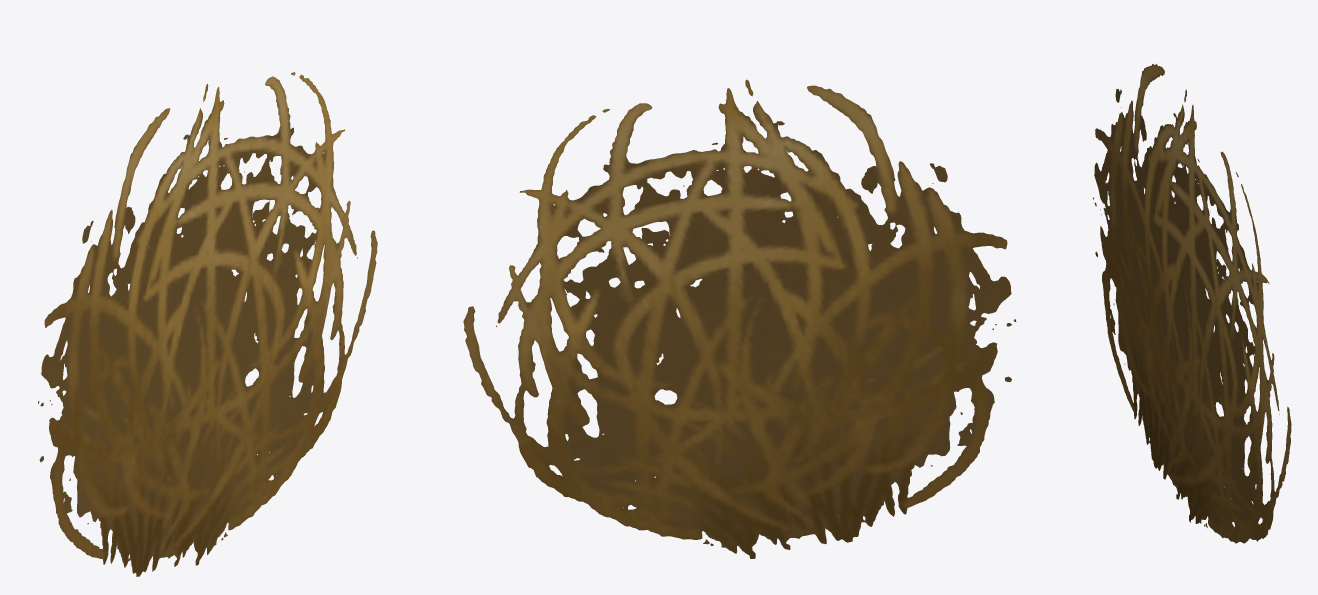
Rendered from tumble1_002.fbx.
The picture shows the model from 3 angles, left to right: view 1: azimuth 30°, elevation 25°; view 2: azimuth 150°, elevation 25°; view 3: azimuth 270°, elevation 25°; orthographic projection. The views are drawn at different scales.
Visible parts, largest first — view 1: tumble1.002; view 2: tumble1.002; view 3: tumble1.002.
Part boxes in pixels (box(x1,y1,x2,y2)): tumble1.002: box(38, 72, 377, 576); tumble1.002: box(463, 79, 1016, 558); tumble1.002: box(1093, 64, 1291, 543).
Size of the model in its own units: 205 by 222 by 85.88.
